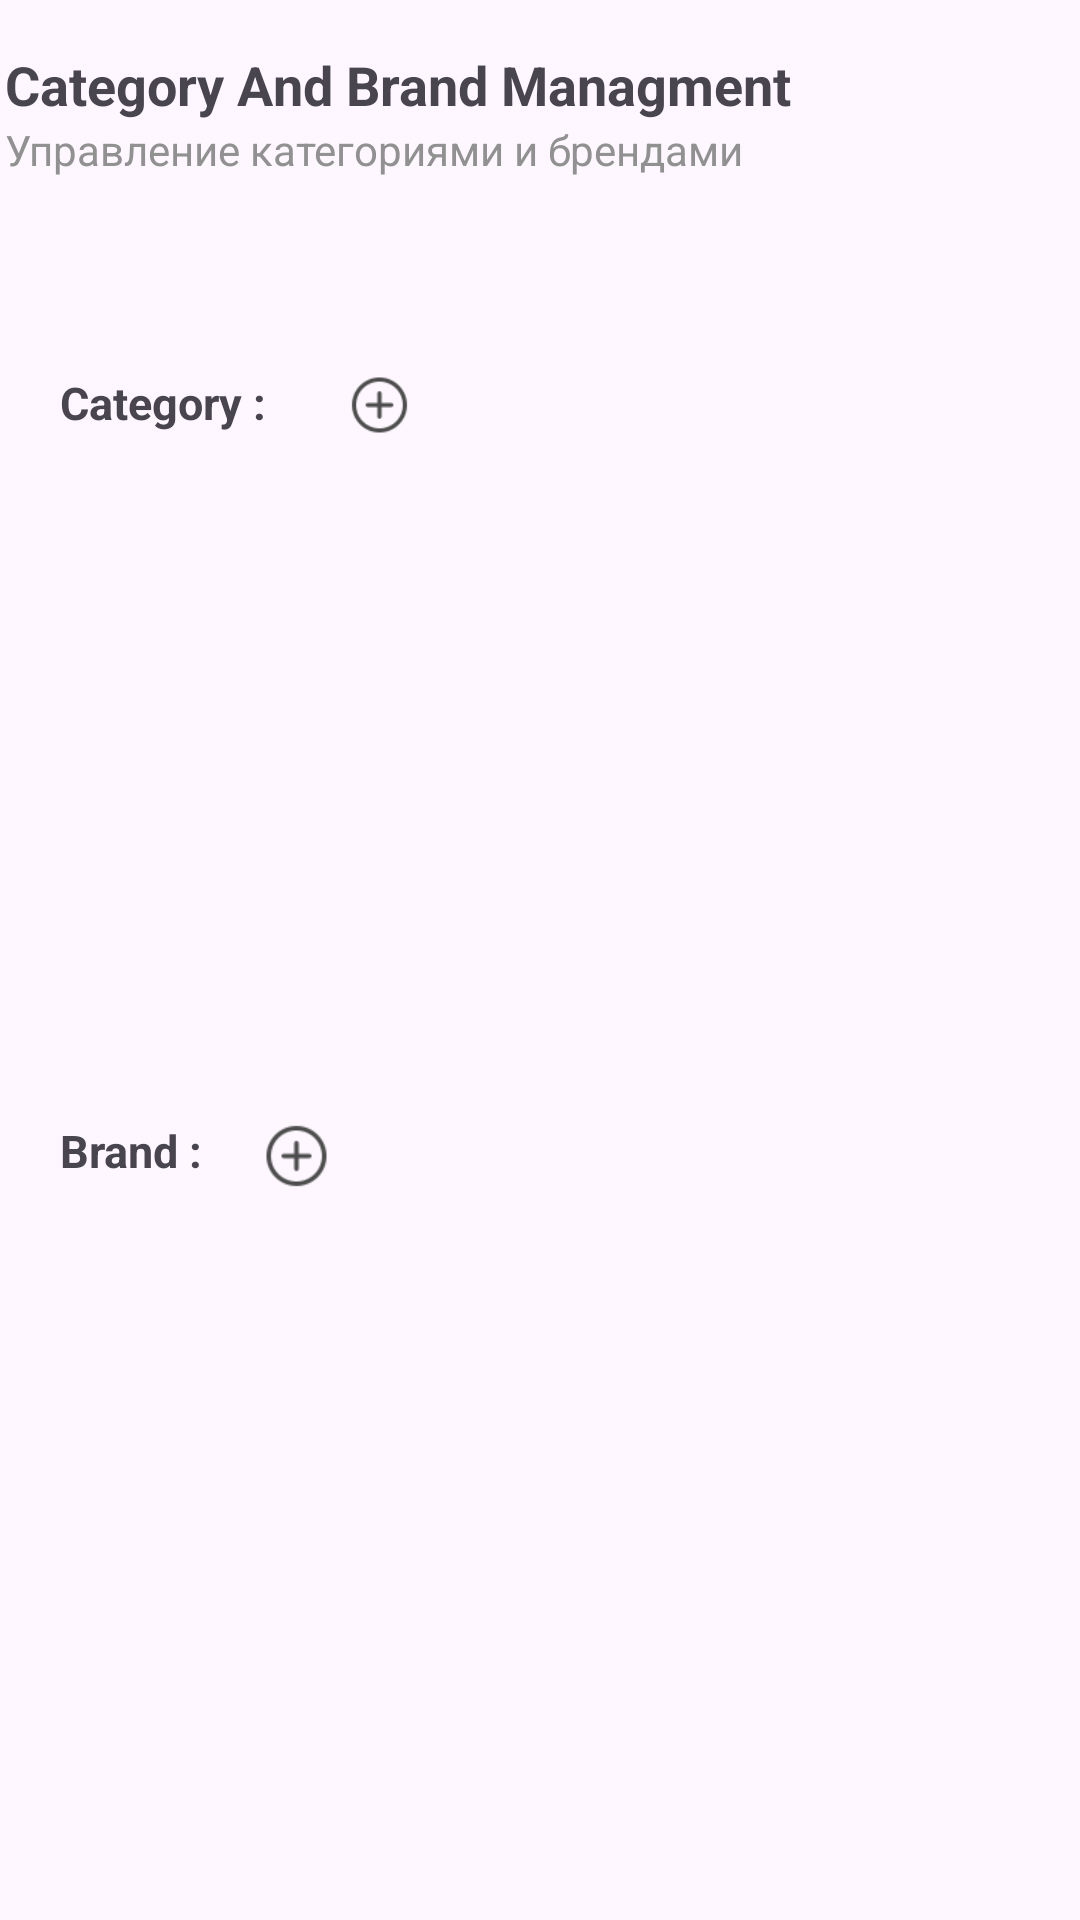

Icons on this 1080w x 1920h Android screen, each with the point to tap as point (x, y):
plus: point (379, 405), point (296, 1156)
